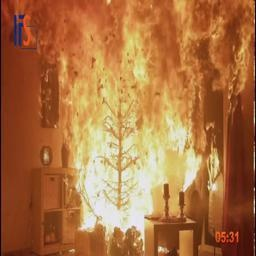fire: (2, 0, 256, 212)
